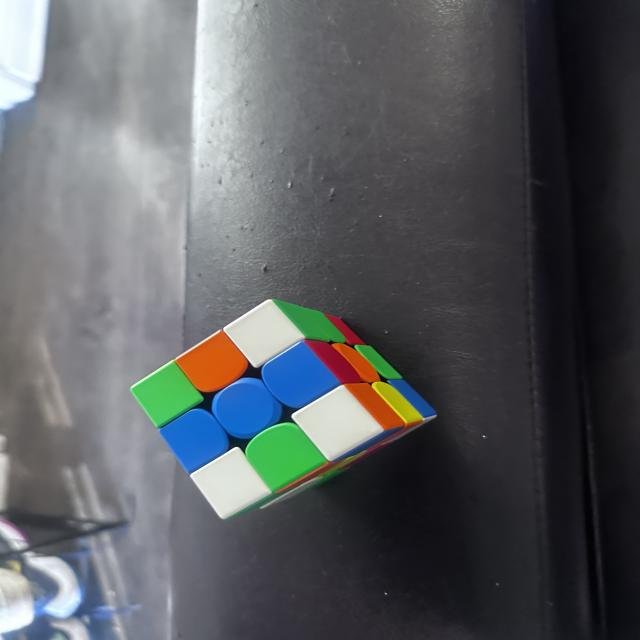sticker: (292, 383, 390, 463), (190, 447, 270, 519), (260, 341, 344, 408), (244, 423, 324, 493), (222, 300, 303, 368), (128, 360, 202, 428), (177, 329, 250, 394), (157, 408, 228, 474), (211, 378, 281, 440)
